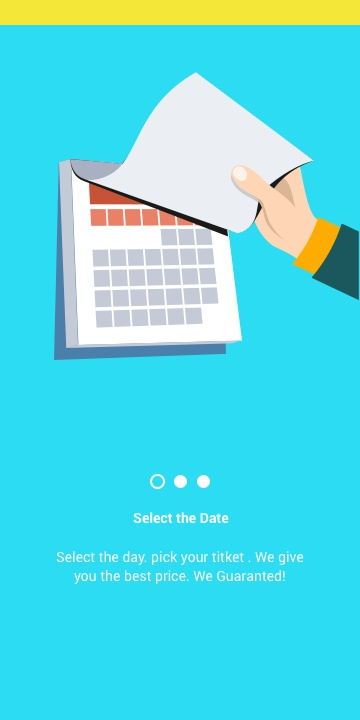Image: (54, 72, 360, 361)
PageIndicator: (149, 473, 213, 492)
Text: (56, 550, 304, 585), (133, 511, 230, 525)
